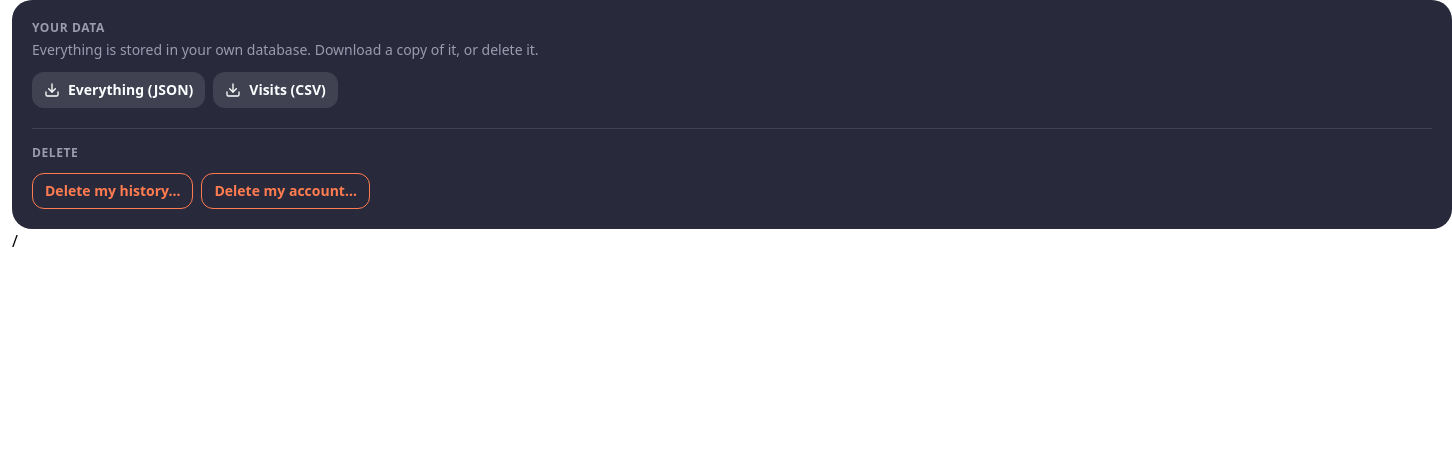
Test: deleting the history › explains what goes and what stays before asking for the password
Step 1. Click the button "Delete my history…" → (113, 191), box [32, 173, 193, 209]
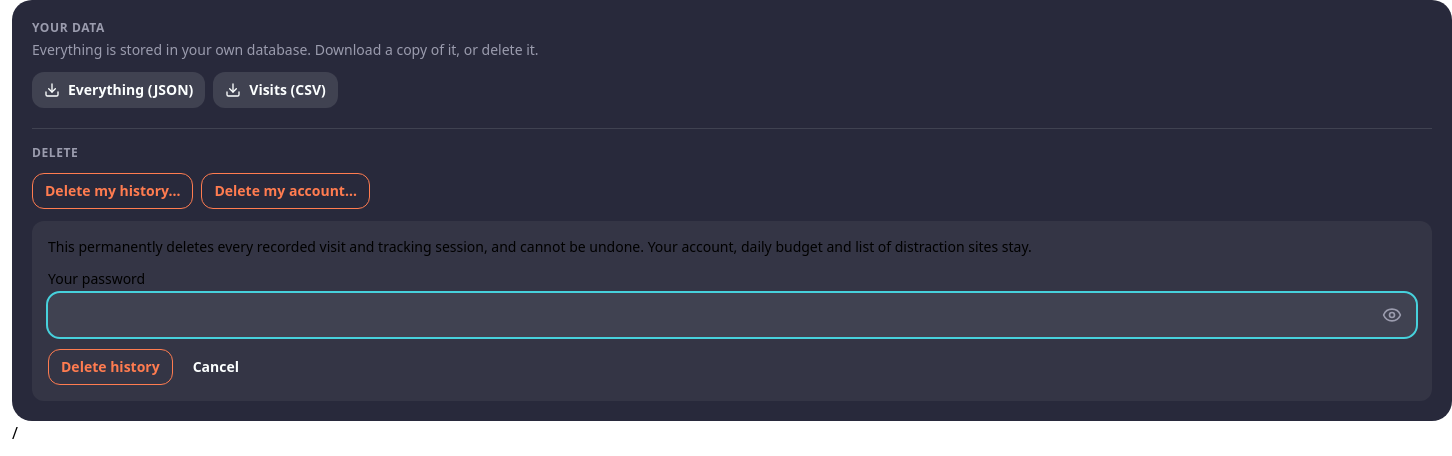
Now the text "account, daily budget and list of distraction sites stay" is shown, box [48, 237, 1032, 256]
